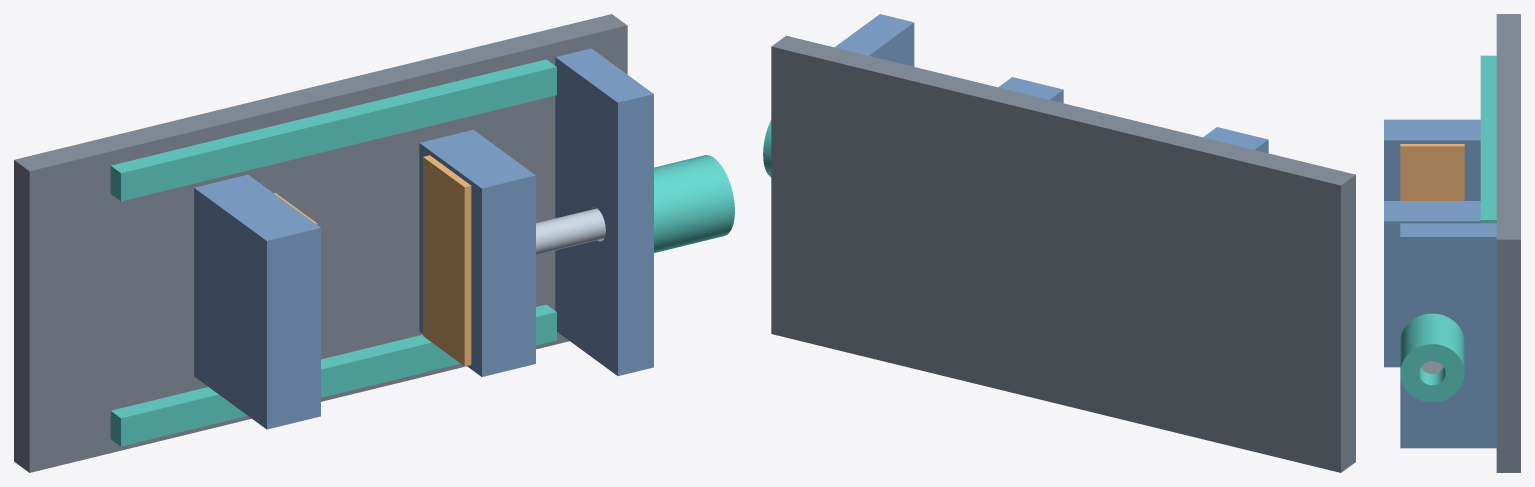
File: assembly.glb
3 views of the same model, side by side, from view 1: azimuth 30°, elevation 25°; view 2: azimuth 150°, elevation 25°; view 3: azimuth 270°, elevation 25° (orthographic). The views are drawn at different scales.
Visible parts, largest first — view 1: base, fixed_jaw, actuator_support, rail_right, moving_jaw, rail_left, moving_pad, actuator_body, rod; view 2: base, actuator_support, fixed_jaw, moving_jaw; view 3: actuator_support, base, actuator_body, moving_jaw, fixed_jaw, fixed_pad, rail_right, rod.
Part boxes in pixels (box(x1,y1,x2,y2)): base: box(14, 14, 627, 472); fixed_jaw: box(194, 174, 320, 429); actuator_support: box(555, 48, 653, 375); rail_right: box(110, 59, 556, 201); moving_jaw: box(419, 129, 535, 376); rail_left: box(110, 304, 556, 446); moving_pad: box(423, 155, 471, 366); actuator_body: box(654, 155, 734, 252); rod: box(536, 208, 605, 254); base: box(771, 35, 1355, 472); actuator_support: box(834, 14, 914, 66); fixed_jaw: box(1203, 127, 1268, 153); moving_jaw: box(998, 77, 1063, 103); actuator_support: box(1400, 223, 1496, 448); base: box(1496, 14, 1520, 472); actuator_body: box(1400, 313, 1464, 402); moving_jaw: box(1384, 201, 1480, 367); fixed_jaw: box(1384, 119, 1480, 200); fixed_pad: box(1400, 144, 1464, 200); rail_right: box(1480, 55, 1496, 223); rod: box(1421, 361, 1443, 373).
Size of the model in its own units: 0.1673 by 0.075 by 0.0399.
